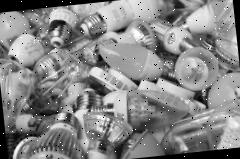lightbulb: (0, 0, 240, 159), (111, 84, 192, 136), (97, 38, 164, 86), (172, 44, 220, 92), (0, 9, 31, 50)
